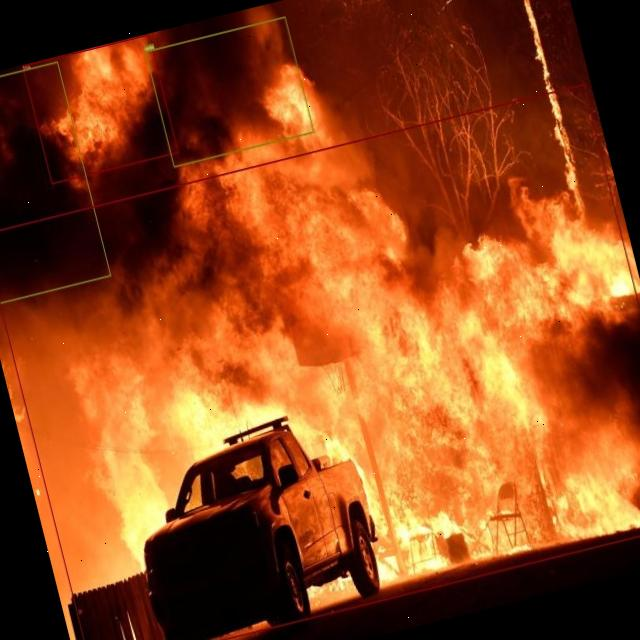fire: (0, 83, 640, 640), (22, 33, 178, 184)
smoke: (0, 61, 111, 306), (144, 15, 314, 166)
